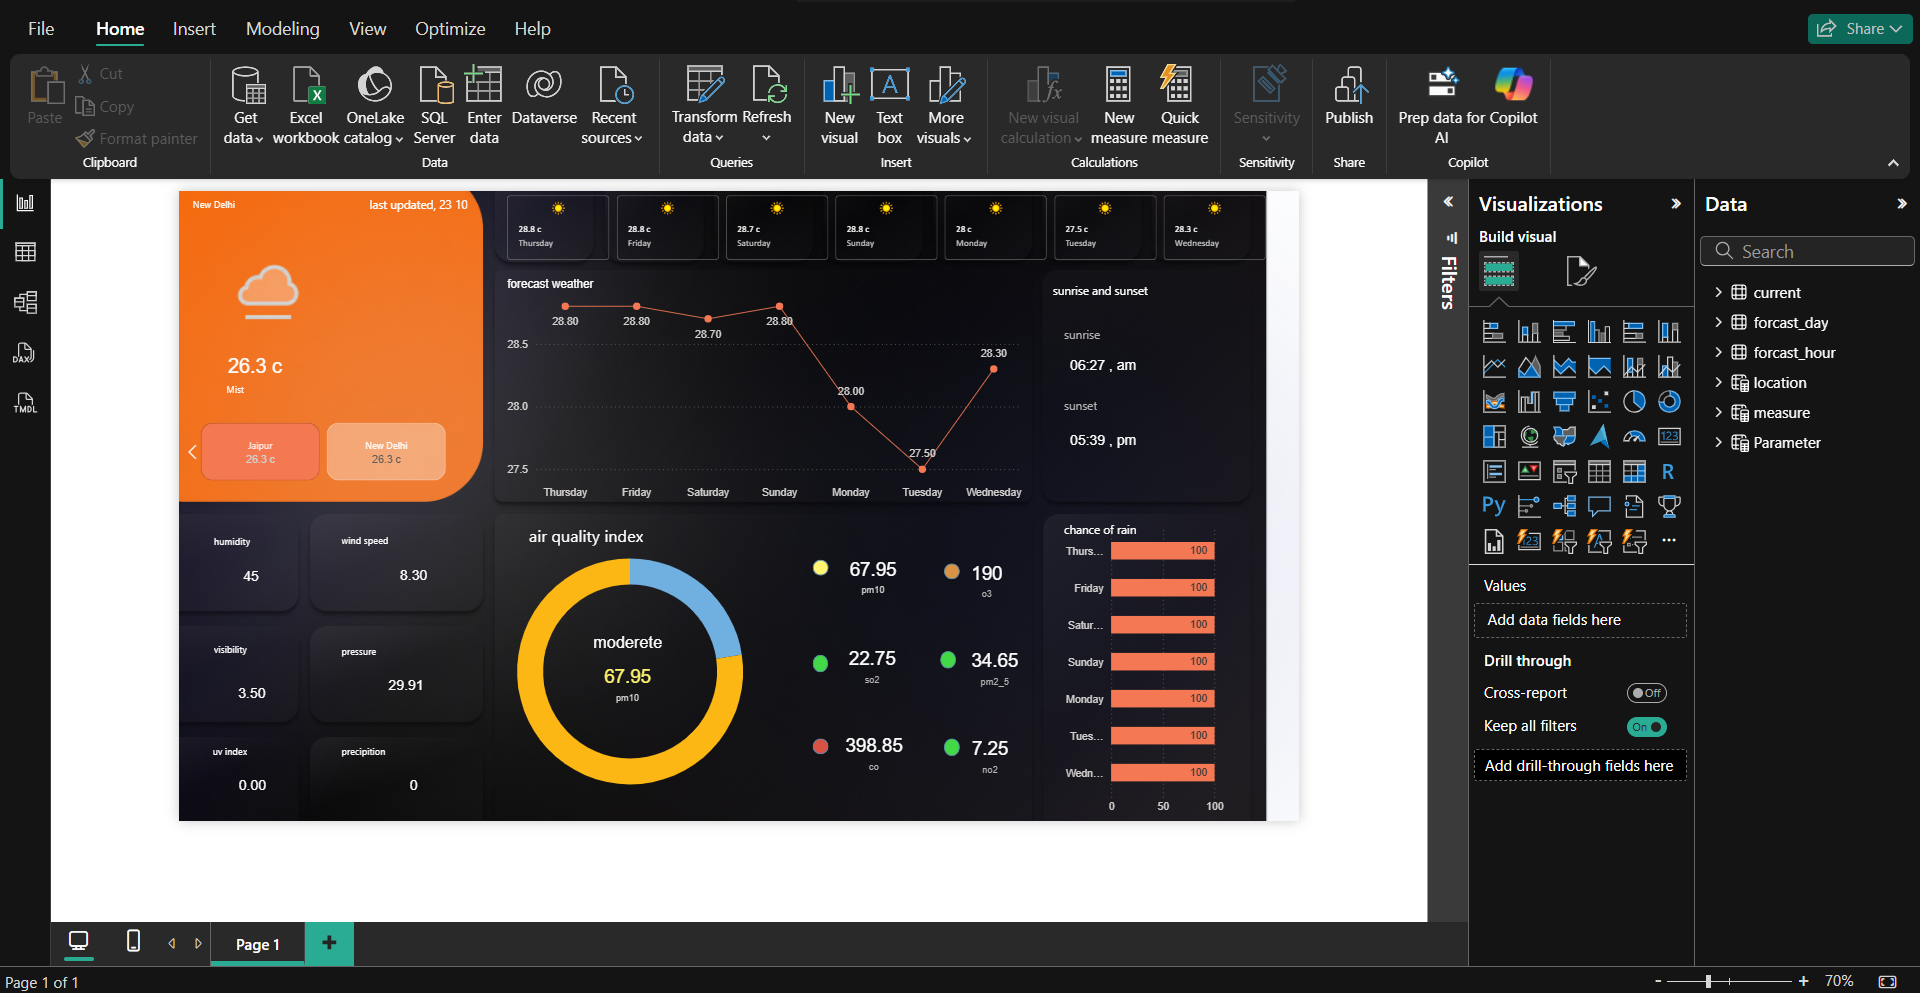

What the dashboard file says about the page in this screenshot:
{"tool":"powerbi","page":{"name":"Page 1","canvas":[1280,720],"ordinal":0},"visuals":[{"type":"advancedSlicerVisual","fields":{"Values":["location.location.name"],"Label":["measure.curr_temp_c"]},"box":[0,260,330,76],"z":0},{"type":"card","fields":{"Values":["measure.curr_temp_c"]},"box":[0,182,174,38],"z":1000},{"type":"shape","box":[186,0,144,30],"z":2000},{"type":"shape","box":[16,0,146,30],"z":3000},{"type":"shape","box":[40,510,104,26],"z":4000},{"type":"shape","box":[40,386,104,28],"z":5000},{"type":"shape","box":[38,626,104,28],"z":6000},{"type":"shape","box":[186,386,104,26],"z":7000},{"type":"shape","box":[186,512,104,28],"z":8000},{"type":"shape","box":[186,626,104,28],"z":9000},{"type":"card","fields":{"Values":["Sum(current.current.humidity)"]},"box":[38,416,88,52],"z":10000},{"type":"card","fields":{"Values":["Sum(current.current.vis_km)"]},"box":[38,550,90,52],"z":11000},{"type":"card","fields":{"Values":["Sum(current.current.uv)"]},"box":[40,654,88,52],"z":12000},{"type":"card","fields":{"Values":["Sum(current.current.precip_in)"]},"box":[224,654,88,52],"z":13000},{"type":"advancedSlicerVisual","fields":{"Values":["forcast_day.day_name"]},"box":[370,0,880,84],"z":14000},{"type":"lineChart","title":"forecast weather","fields":{"Y":["Sum(forcast_day.forecast.forecastday.day.avgtemp_c)"],"Category":["forcast_day.day_name"]},"box":[370,98,604,262],"z":15000},{"type":"shape","box":[54,212,148,30],"z":16000},{"type":"cardVisual","fields":{"Data":["Min(current.current.condition.icon)"]},"box":[0,30,168.6,160],"z":17000},{"type":"shape","box":[998,98,146,30],"z":18000},{"type":"card","fields":{"Values":["Min(forcast_day.sunrise_day)"]},"box":[1012,186,90,26],"z":19000},{"type":"card","fields":{"Values":["Min(forcast_day.sunset_day)"]},"box":[1012,272,90,26],"z":20000},{"type":"shape","box":[1012,148,146,30],"z":21000},{"type":"shape","box":[1012,230,148,30],"z":22000},{"type":"shape","box":[1012,372,146,30],"z":24000},{"type":"shape","box":[400,368,232,48],"z":25000},{"type":"card","fields":{"Values":["Sum(current.current.pressure_in)"]},"box":[216,540,88,52],"z":26000},{"type":"card","fields":{"Values":["Sum(current.current.wind_kph)"]},"box":[224,414,88,52],"z":27000},{"type":"card","fields":{"Values":["Sum(current.current.air_quality.co)"]},"box":[745,605,97.5,70],"z":28000},{"type":"card","fields":{"Values":["Sum(current.current.air_quality.no2)"]},"box":[887.5,613.8,80,60],"z":29000},{"type":"card","fields":{"Values":["Sum(current.current.air_quality.o3)"]},"box":[892,416,64,56],"z":30000},{"type":"card","fields":{"Values":["Sum(current.current.air_quality.pm10)"]},"box":[752,402,84,76],"z":31000},{"type":"card","fields":{"Values":["Sum(current.current.air_quality.pm2_5)"]},"box":[888,510,88,68],"z":32000},{"type":"card","fields":{"Values":["Sum(current.current.air_quality.so2)"]},"box":[742,506,102,72],"z":33000},{"type":"shape","box":[870,526,18,20],"z":34000},{"type":"shape","box":[874,426,18,18],"z":35000},{"type":"shape","box":[874,626,18,20],"z":36000},{"type":"shape","box":[723.8,530,17.5,20],"z":37000},{"type":"shape","box":[724,626,18,18],"z":38000},{"type":"shape","box":[724,422,18,18],"z":39000},{"type":"card","fields":{"Values":["Sum(current.current.air_quality.pm10)"]},"box":[430,505.7,165.7,91.4],"z":40000},{"type":"donutChart","fields":{"Y":["Sum(current.current.air_quality.pm10)","measure.left_value_pm10"]},"box":[314.3,382.9,402.9,332.9],"z":41000},{"type":"barChart","fields":{"Y":["measure.left_value_rain"],"Category":["forcast_day.day_name"]},"box":[995.7,371.4,227.1,348.6],"z":41001}]}

Visuals, with their boxes on the page's 1280x720 design canvas (x1, y1, x2, y2). These are canvas units, not pixel positions in the 1920x993 screenshot, which may show the page scaled, cropped or inside an application window:
advancedSlicerVisual - location.location.name x measure.curr_temp_c: [0, 260, 330, 336]
card - measure.curr_temp_c: [0, 182, 174, 220]
shape: [186, 0, 330, 30]
shape: [16, 0, 162, 30]
shape: [40, 510, 144, 536]
shape: [40, 386, 144, 414]
shape: [38, 626, 142, 654]
shape: [186, 386, 290, 412]
shape: [186, 512, 290, 540]
shape: [186, 626, 290, 654]
card - Sum(current.current.humidity): [38, 416, 126, 468]
card - Sum(current.current.vis_km): [38, 550, 128, 602]
card - Sum(current.current.uv): [40, 654, 128, 706]
card - Sum(current.current.precip_in): [224, 654, 312, 706]
advancedSlicerVisual - forcast_day.day_name: [370, 0, 1250, 84]
"forecast weather" lineChart: [370, 98, 974, 360]
shape: [54, 212, 202, 242]
cardVisual - Min(current.current.condition.icon): [0, 30, 169, 190]
shape: [998, 98, 1144, 128]
card - Min(forcast_day.sunrise_day): [1012, 186, 1102, 212]
card - Min(forcast_day.sunset_day): [1012, 272, 1102, 298]
shape: [1012, 148, 1158, 178]
shape: [1012, 230, 1160, 260]
shape: [1012, 372, 1158, 402]
shape: [400, 368, 632, 416]
card - Sum(current.current.pressure_in): [216, 540, 304, 592]
card - Sum(current.current.wind_kph): [224, 414, 312, 466]
card - Sum(current.current.air_quality.co): [745, 605, 842, 675]
card - Sum(current.current.air_quality.no2): [888, 614, 968, 674]
card - Sum(current.current.air_quality.o3): [892, 416, 956, 472]
card - Sum(current.current.air_quality.pm10): [752, 402, 836, 478]
card - Sum(current.current.air_quality.pm2_5): [888, 510, 976, 578]
card - Sum(current.current.air_quality.so2): [742, 506, 844, 578]
shape: [870, 526, 888, 546]
shape: [874, 426, 892, 444]
shape: [874, 626, 892, 646]
shape: [724, 530, 741, 550]
shape: [724, 626, 742, 644]
shape: [724, 422, 742, 440]
card - Sum(current.current.air_quality.pm10): [430, 506, 596, 597]
donutChart - Sum(current.current.air_quality.pm10) x measure.left_value_pm10: [314, 383, 717, 716]
barChart - measure.left_value_rain x forcast_day.day_name: [996, 371, 1223, 720]
